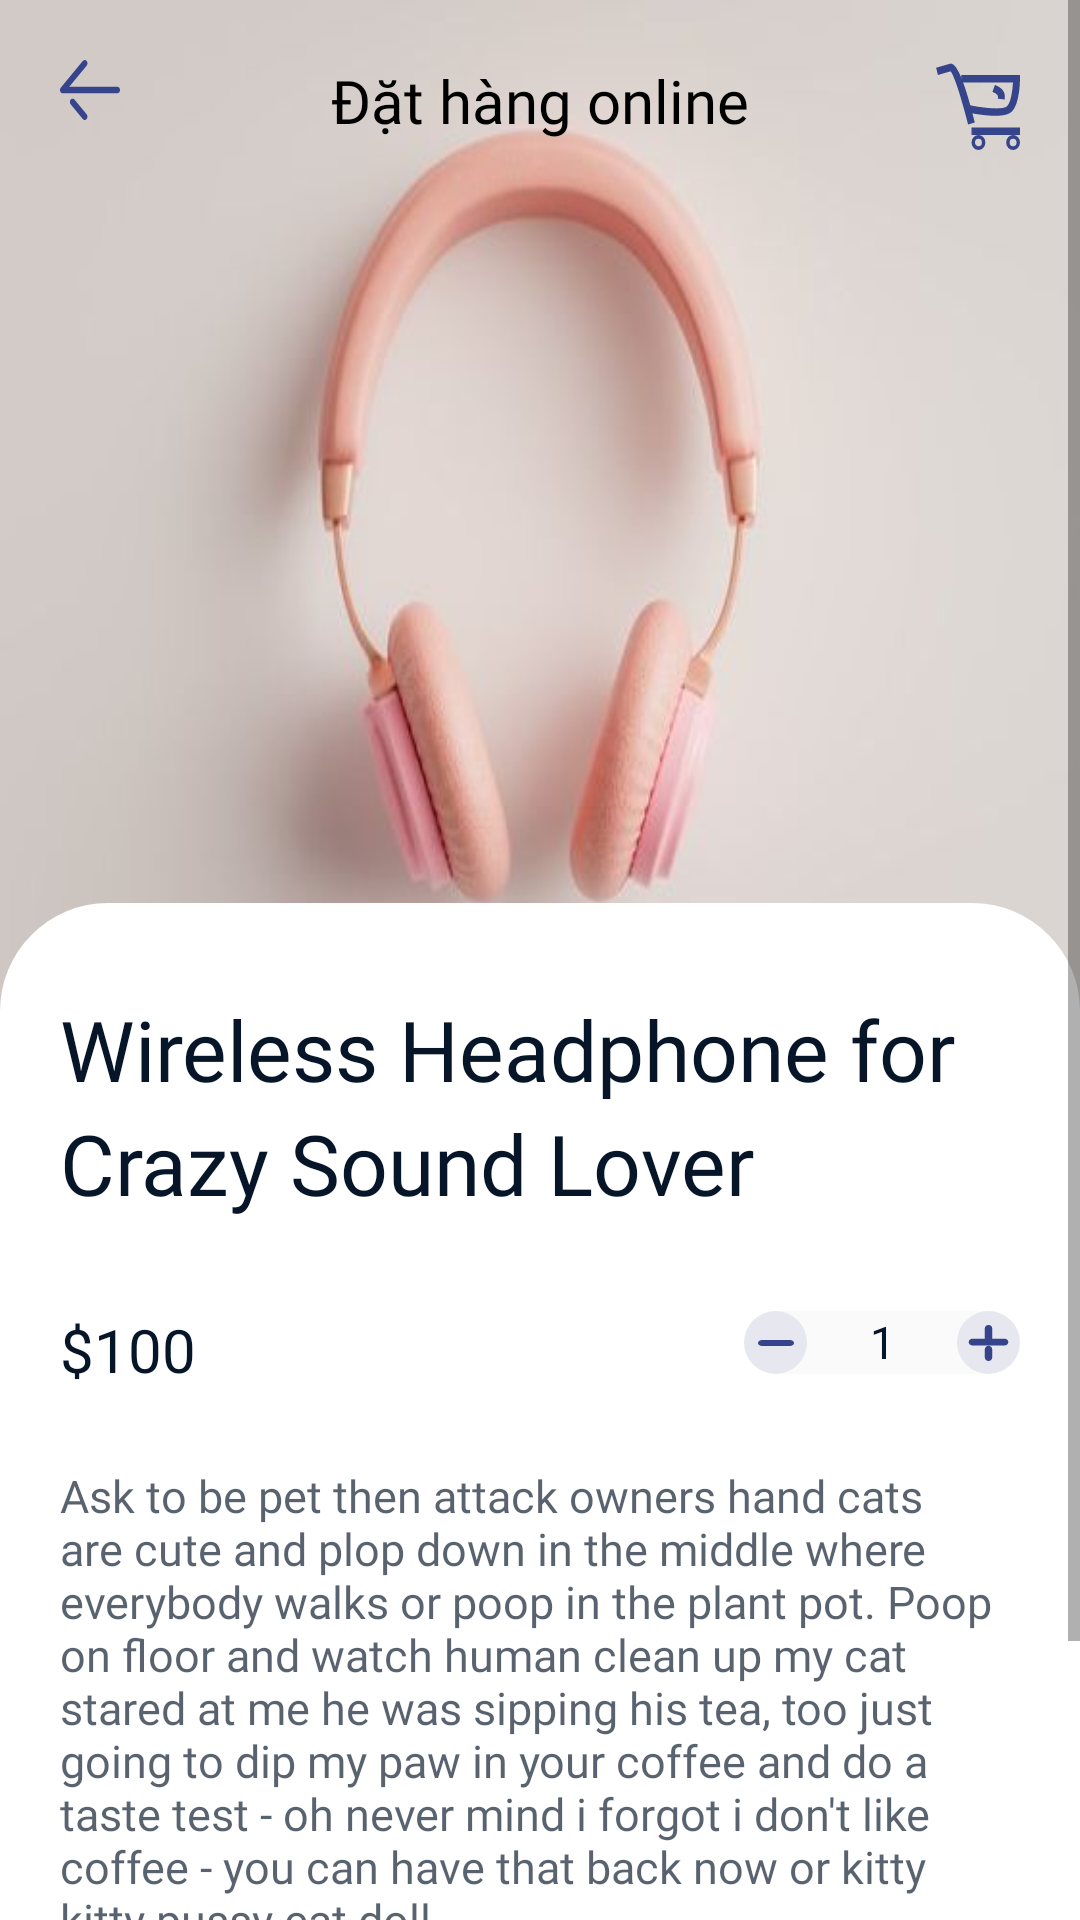

Icons on this 1080*1920 Android screen, each with its box as [x1,y1,x2,y2]:
back: [60,60,120,120]
cart: [936,63,1020,150]
decrease: [758,1340,794,1346]
increase: [957,1311,1020,1374]
